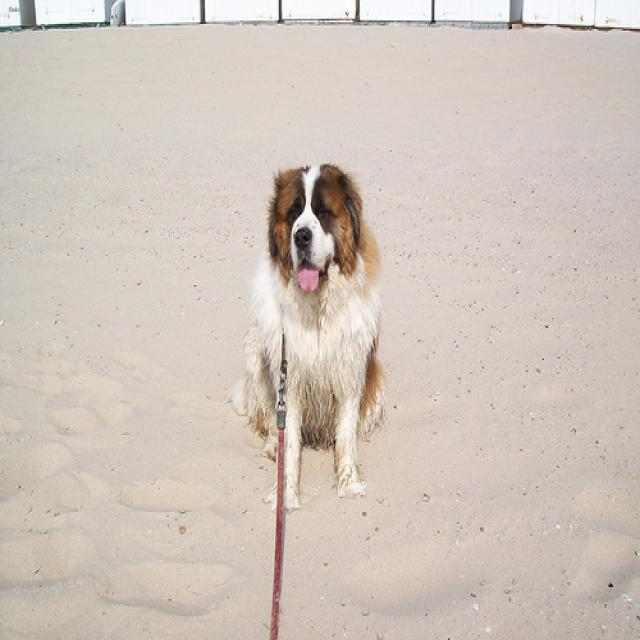dog-saint_bernard: (220, 154, 392, 522)
